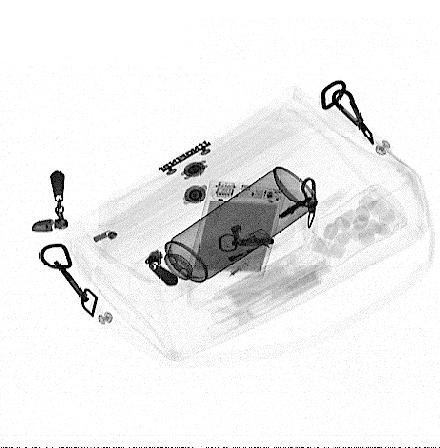Lighter: (209, 226, 274, 270)
Powerbank: (185, 180, 286, 281)
Sprayer: (133, 167, 319, 302)
